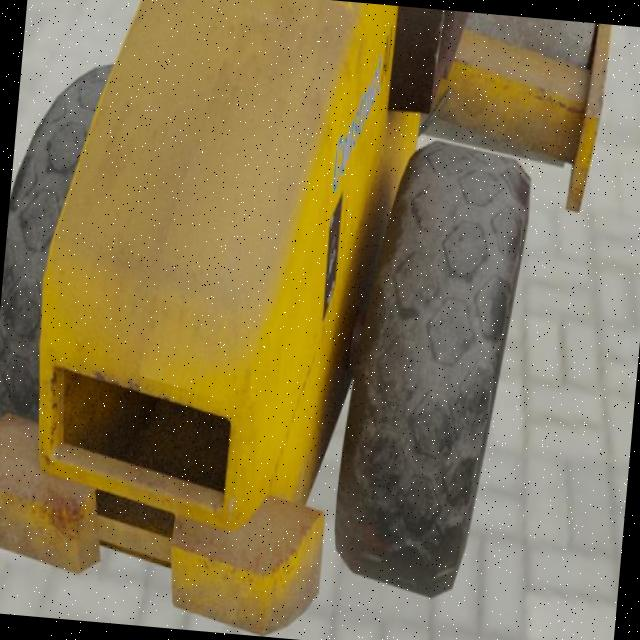Roller: (0, 0, 613, 640)
